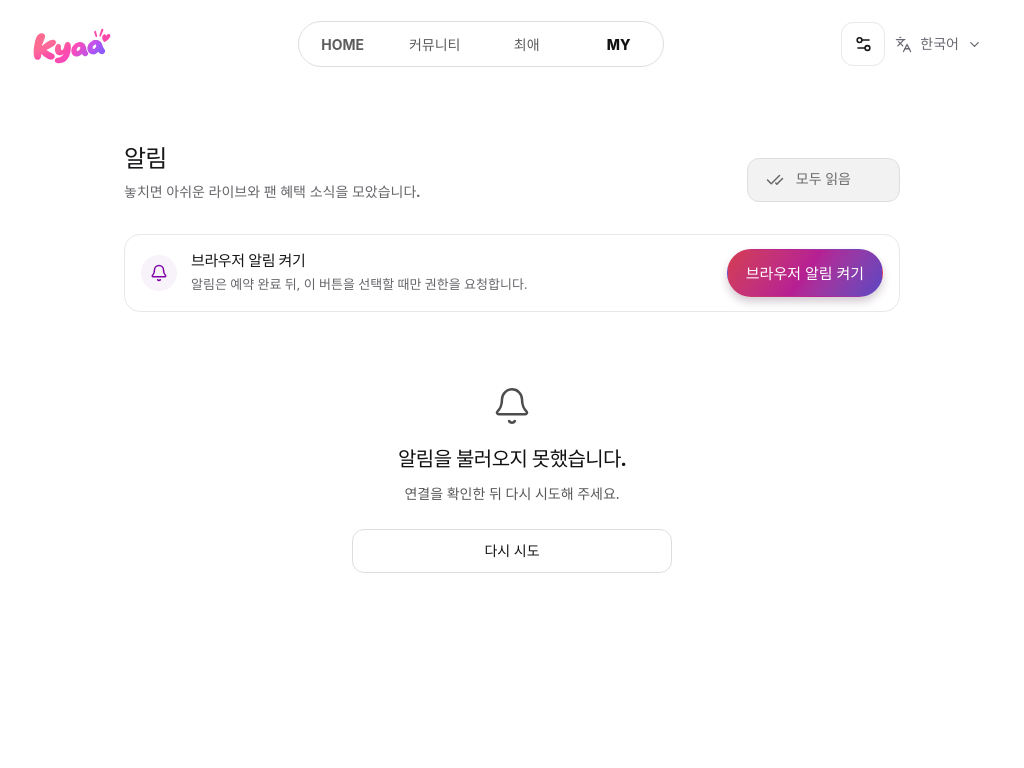
Test case: FAN-019 Notification Center › offers a retry action after a collection error
Check: the heading "알림을 불러오지 못했습니다." is shown, box [398,446,626,471]
Click the button "다시 시도" at (512, 552), box [352,530,672,574]
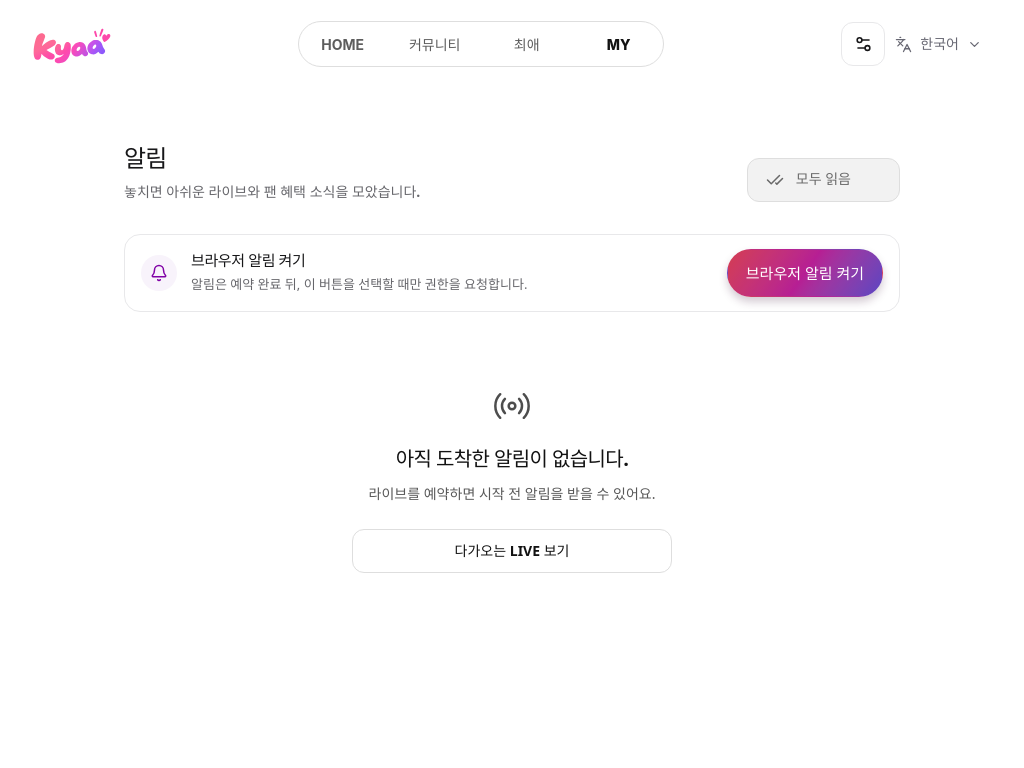
Check: the heading "아직 도착한 알림이 없습니다." is shown, box [396,446,628,471]
